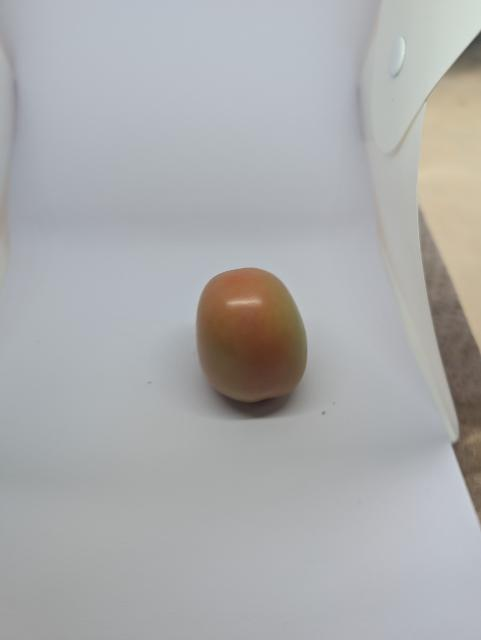turning: (184, 262, 312, 413)
